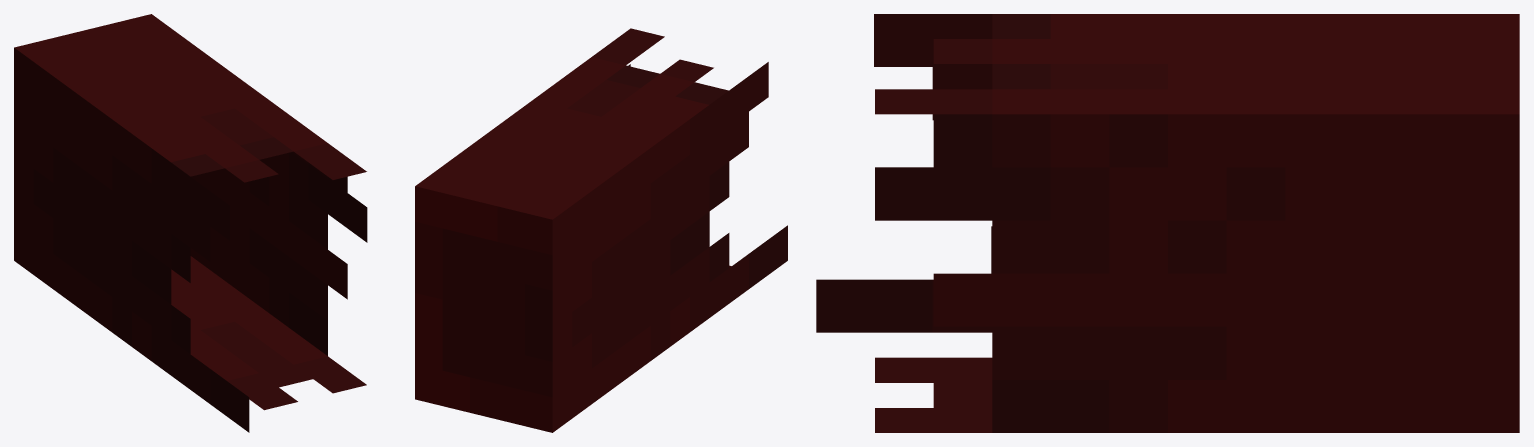
Rendered from L_Arm_SpiritRobe.glb.
3 renders of one model, left to right at view 1: azimuth 30°, elevation 25°; view 2: azimuth 150°, elevation 25°; view 3: azimuth 270°, elevation 25°, orthographic. The views are drawn at different scales.
Visible parts, largest first — view 1: L_Arm_SpiritRobe.001; view 2: L_Arm_SpiritRobe.001; view 3: L_Arm_SpiritRobe.001.
Boxes of the visible parts, box(x1,y1,x2,y2) form: L_Arm_SpiritRobe.001: box(14, 14, 367, 432); L_Arm_SpiritRobe.001: box(415, 28, 787, 432); L_Arm_SpiritRobe.001: box(816, 14, 1519, 432).
Bounding box in the file's own units: 25.3 × 37.5 × 75.
Materials: 1 (1 with a texture image).
